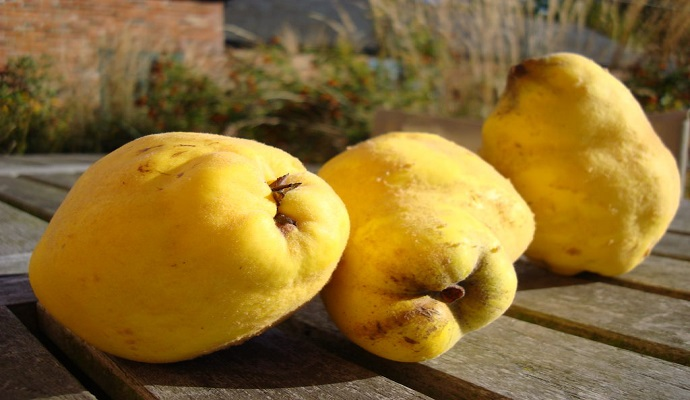Quince: (27, 71, 350, 394), (301, 114, 555, 376), (457, 44, 686, 291)
